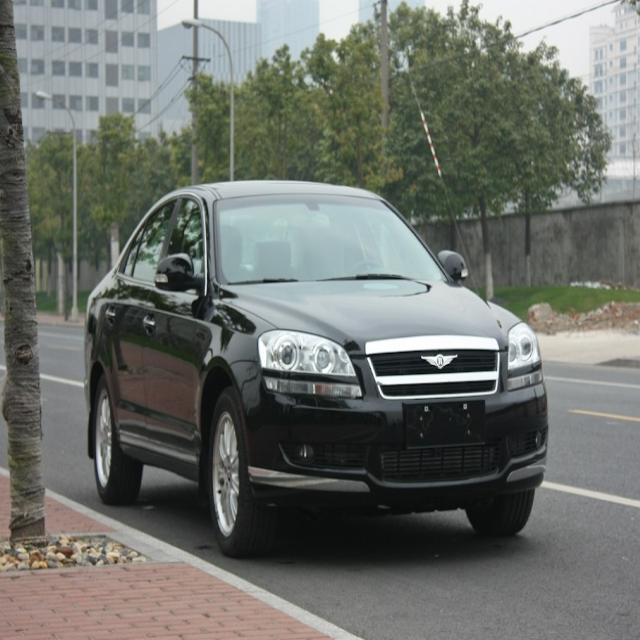front_bumper: (240, 366, 550, 503)
front_glass: (214, 191, 451, 287)
front_left_side_light: (504, 318, 544, 394)
front_left_side_mirror: (437, 250, 469, 284)
front_right_side_door: (138, 190, 208, 467)
front_right_side_light: (256, 327, 364, 400)
front_right_side_mirror: (154, 252, 205, 296)
wheel: (208, 388, 273, 556), (92, 374, 142, 502), (465, 486, 537, 532)
